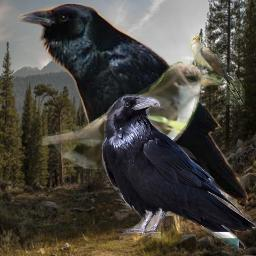Crow: (18, 3, 248, 237), (102, 94, 256, 251)
Cuckoo: (42, 61, 220, 169), (190, 34, 245, 105)
